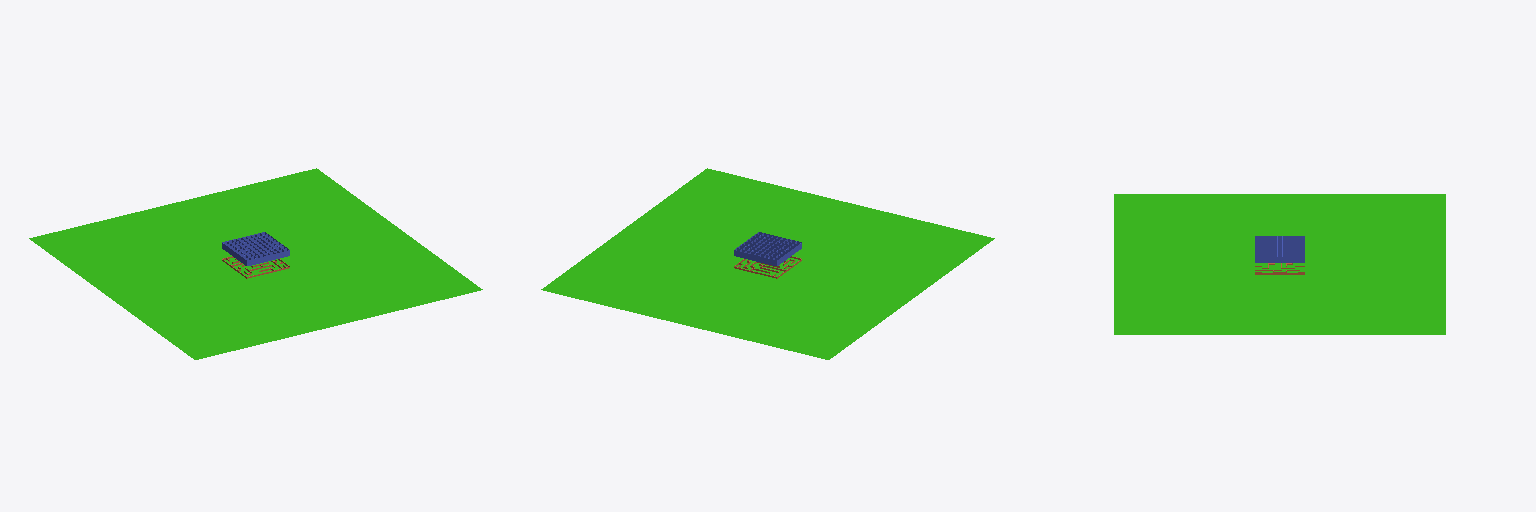
Rendered from testField9.obj.
3 views of the same model, side by side, from view 1: azimuth 30°, elevation 25°; view 2: azimuth 150°, elevation 25°; view 3: azimuth 270°, elevation 25° (orthographic).
Visible parts, largest first — view 1: Plane; view 2: Plane; view 3: Plane.
Part boxes in pixels (x1,y1,x2,y2): Plane: (29,168,482,359); Plane: (541,168,994,359); Plane: (1114,194,1445,334).
Bounding box in the file's own units: 200 × 13 × 200.